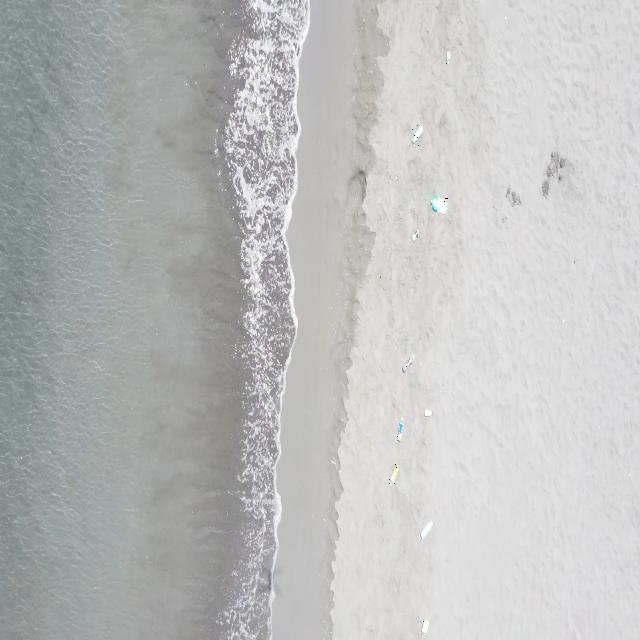Garbage: (432, 196, 447, 212), (412, 123, 423, 143), (395, 416, 404, 440), (420, 520, 432, 537), (402, 353, 412, 372), (388, 465, 397, 484), (422, 619, 428, 633), (413, 228, 419, 240), (444, 51, 449, 64), (424, 409, 432, 415)
